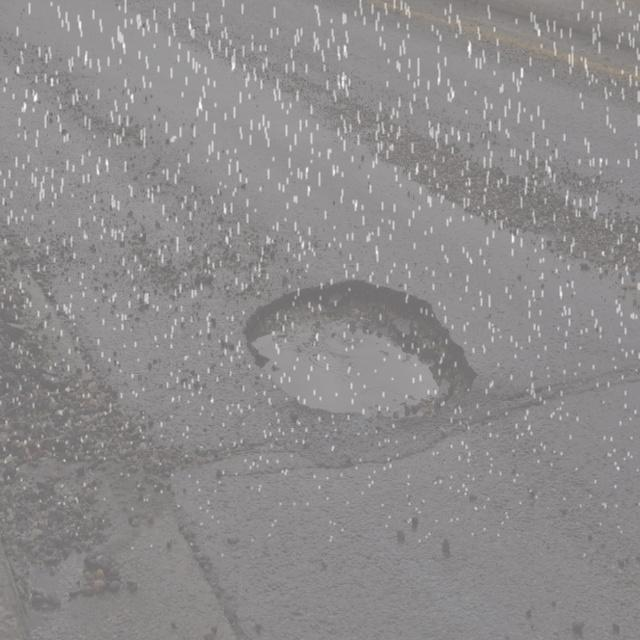Pothole: (232, 267, 480, 427)
